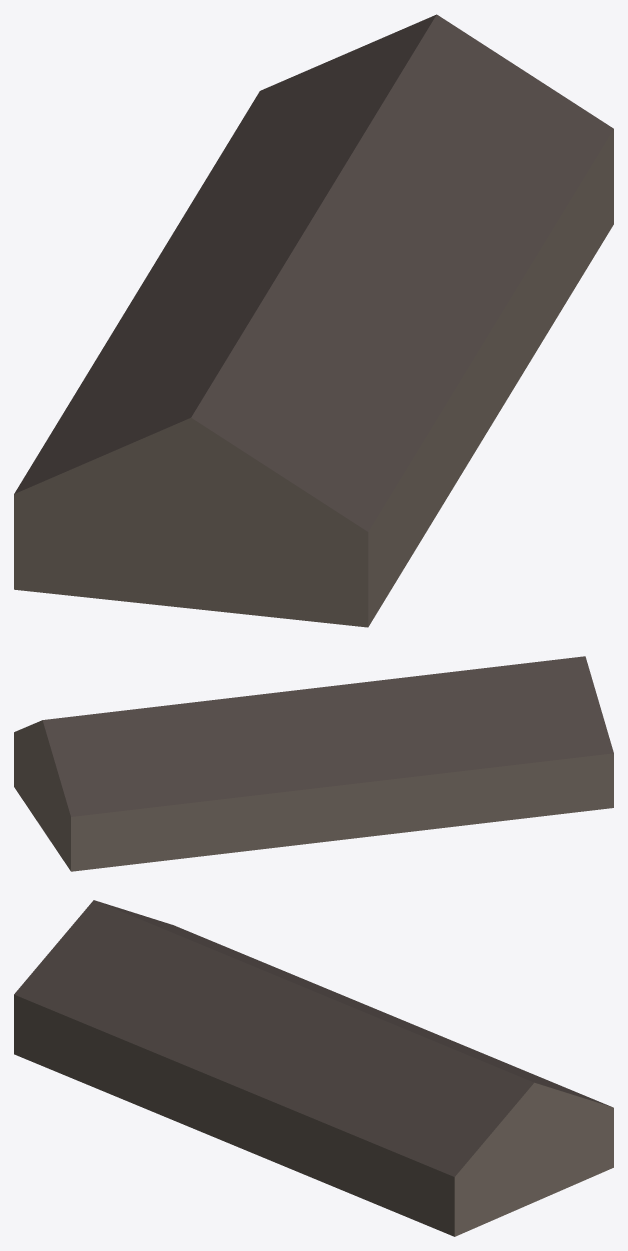
3 views of the same model, one above another, from view 1: azimuth 30°, elevation 25°; view 2: azimuth 150°, elevation 25°; view 3: azimuth 270°, elevation 25° (orthographic). The views are drawn at different scales.
Visible parts, largest first — view 1: HP-w1557232624; view 2: HP-w1557232624; view 3: HP-w1557232624.
Boxes of the visible parts, bbox=[...] form: HP-w1557232624: bbox=[14, 14, 613, 627]; HP-w1557232624: bbox=[14, 656, 613, 871]; HP-w1557232624: bbox=[14, 900, 613, 1236].
Bounding box in the file's own units: 27.11 × 6 × 27.27.
